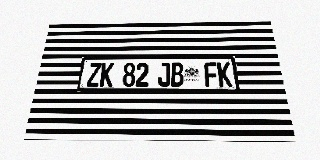2: (135, 63, 149, 87)
8: (122, 63, 136, 87)
B: (171, 63, 184, 87)
F: (204, 62, 219, 87)
J: (158, 63, 170, 87)
K: (217, 62, 232, 87), (99, 63, 114, 87)
Z: (86, 63, 101, 87)
